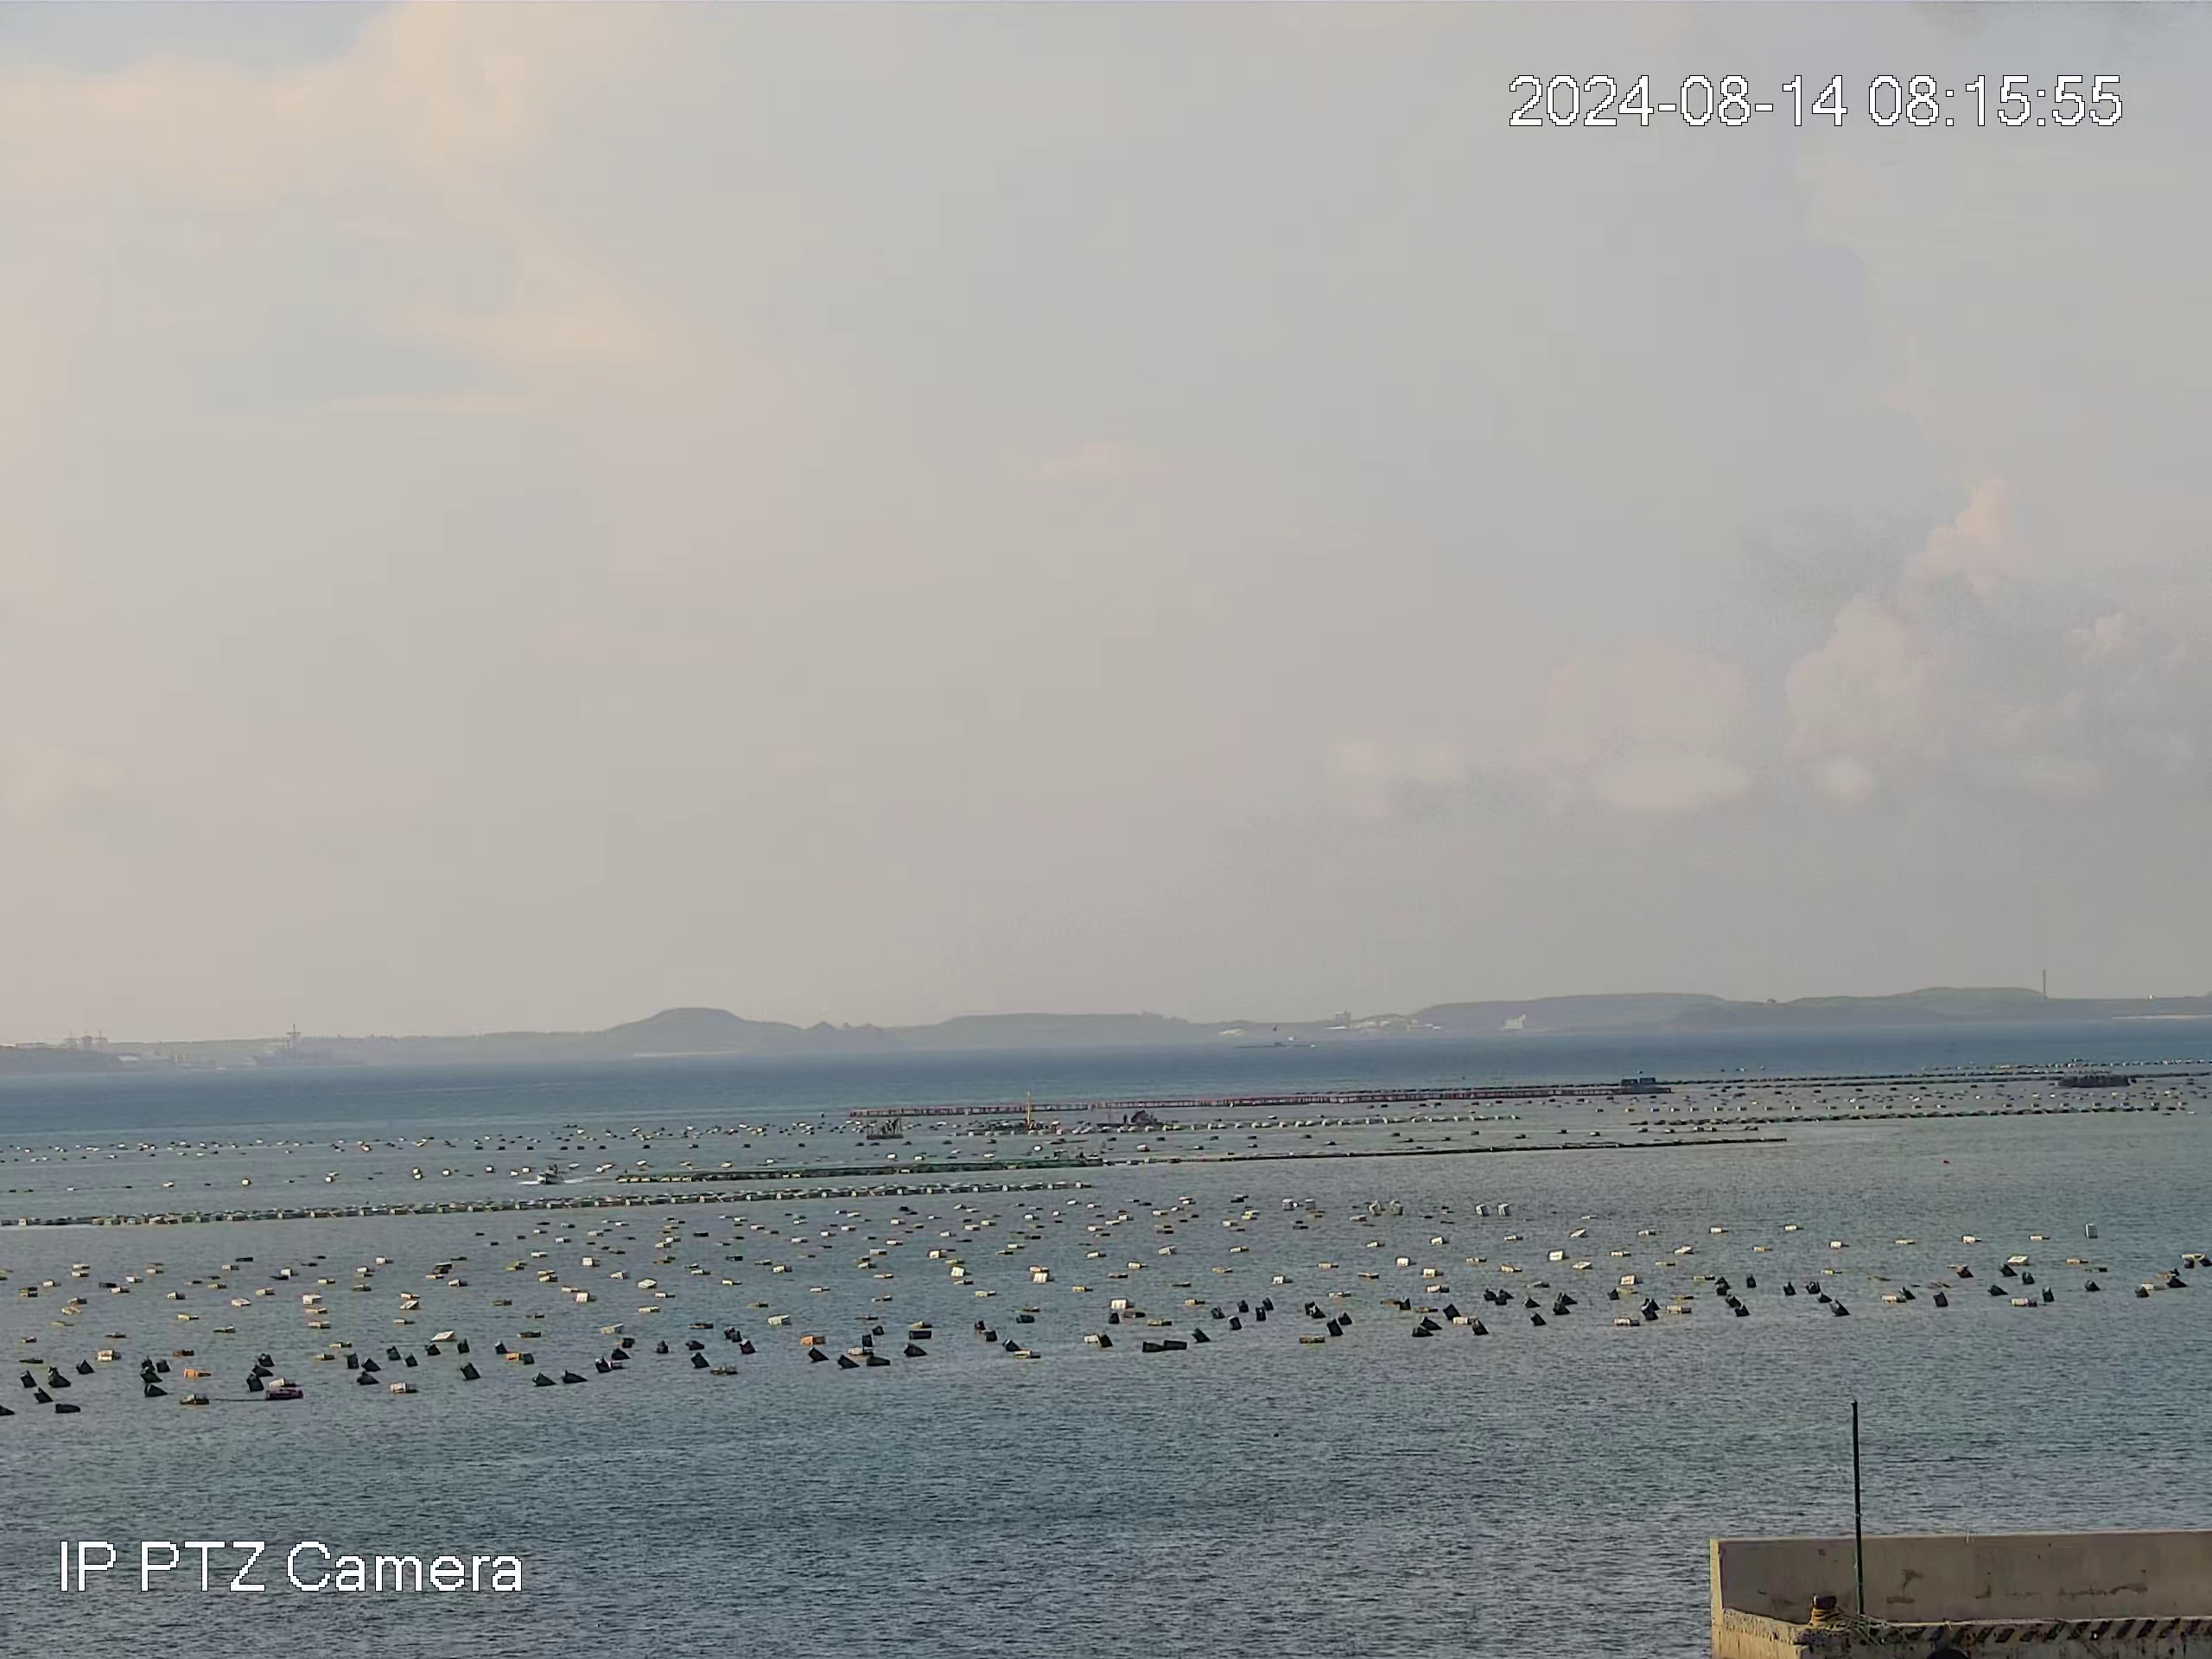boat: (2052, 1063, 2139, 1089), (864, 1115, 911, 1140)
